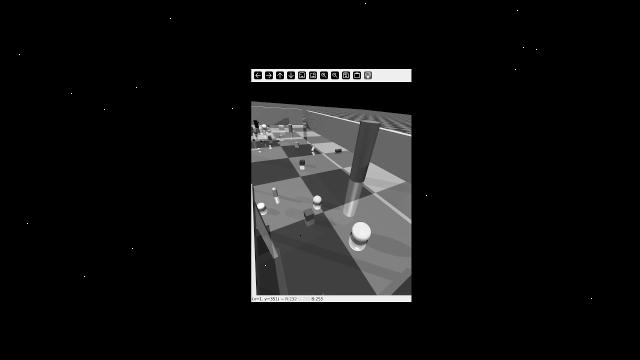cilindro: (349, 119, 381, 183), (273, 186, 279, 198), (254, 117, 260, 128), (287, 123, 293, 133), (310, 145, 317, 152), (334, 148, 343, 152), (262, 130, 266, 137), (263, 139, 267, 144), (276, 139, 280, 143), (269, 144, 272, 148)
cuadrado: (301, 209, 316, 222), (298, 157, 307, 167), (276, 124, 285, 131), (278, 134, 283, 138), (252, 138, 255, 142)
esfera: (350, 220, 373, 241), (312, 192, 324, 205), (255, 200, 266, 210), (261, 124, 268, 129), (253, 130, 258, 134), (257, 147, 261, 151), (255, 134, 259, 137), (259, 139, 262, 143), (268, 129, 271, 132), (267, 123, 268, 127), (269, 125, 271, 126)
rectangulo: (268, 133, 272, 141), (294, 141, 300, 146), (259, 127, 262, 133)
